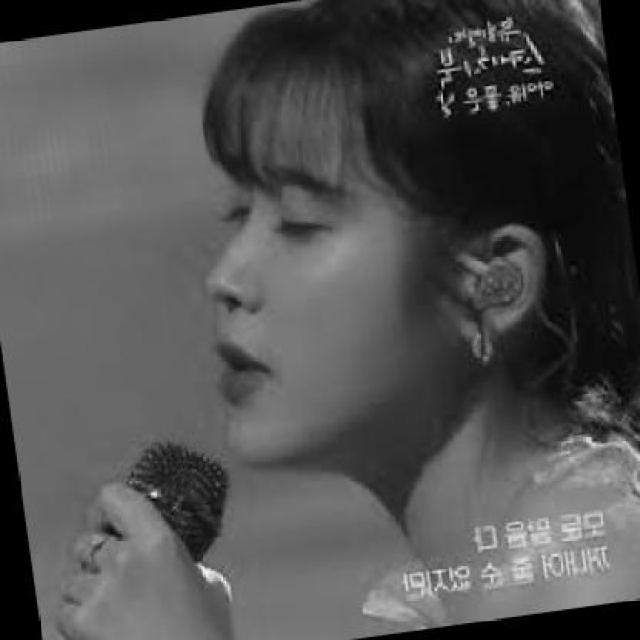earphone: (473, 249, 527, 323)
